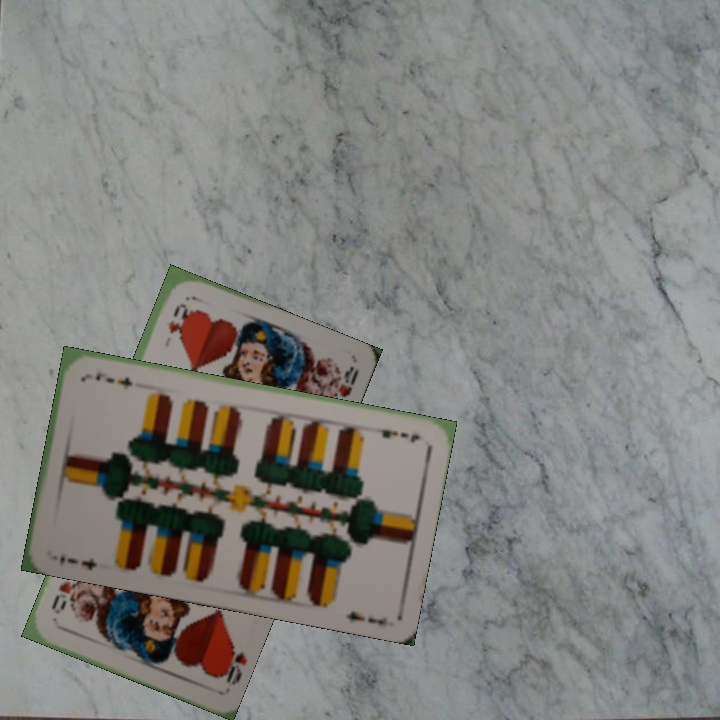E7: (368, 423, 423, 446), (55, 552, 99, 573)
HO: (212, 633, 249, 688), (164, 299, 190, 336)
